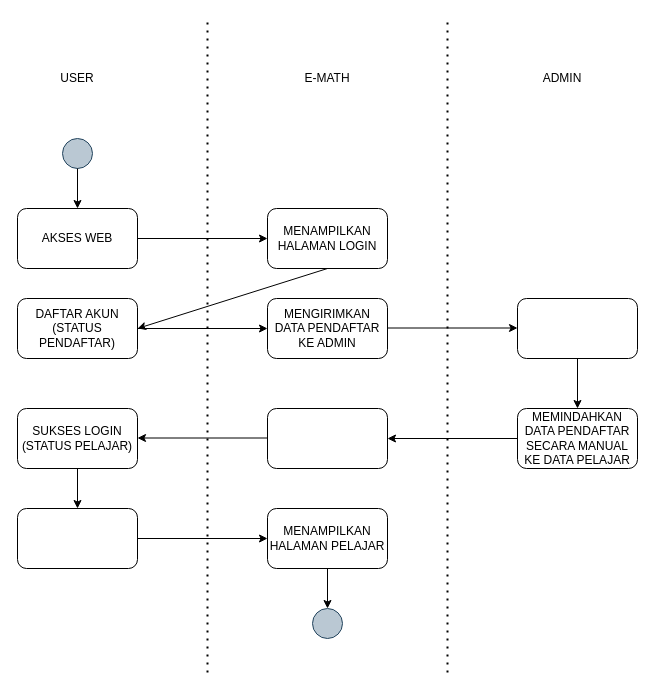
The diagram is 655 pixels wide and 691 high, and some of its shapes have lost their labels. The shapes that lost their labels are listed below. From the top down, each one's centre as x and y in pixels, then its label:
point (577, 328): MENGKONFIRMASI DATA PENDAFTAR YANG SUDAH TRASFER
point (327, 438): DAPAT DI AKSES OLEH USER BARU
point (77, 538): MENGAKSES LAYANAN E-MATH
